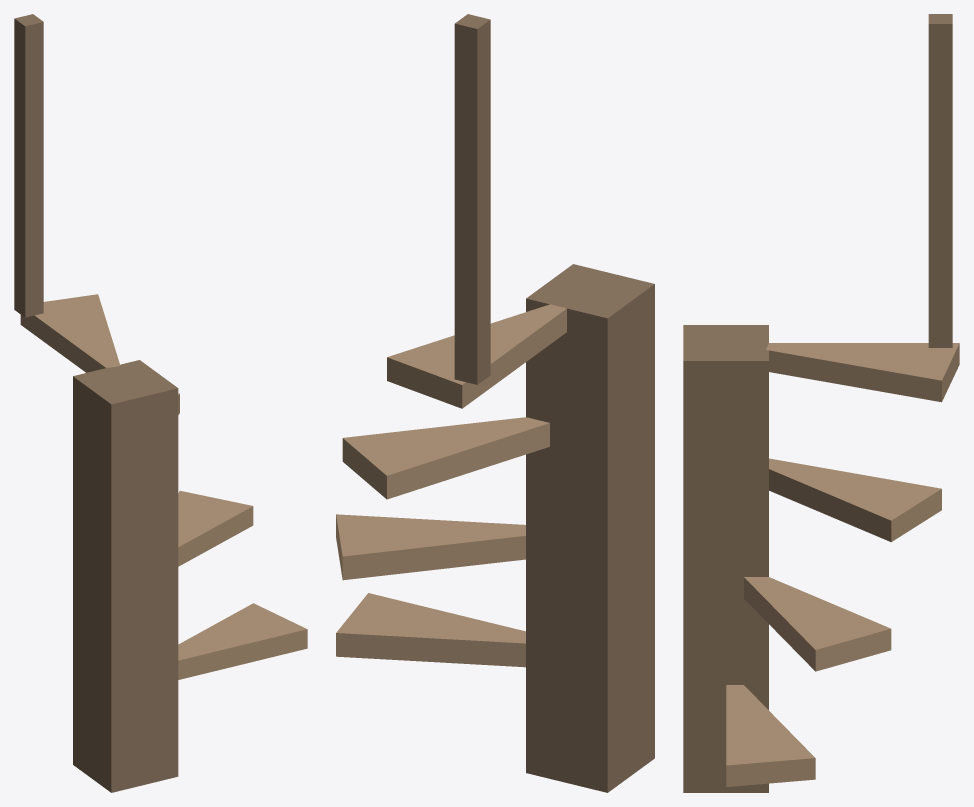
The model's file is spiral-wood.glb.
3 views of the same model, side by side, from view 1: azimuth 30°, elevation 25°; view 2: azimuth 150°, elevation 25°; view 3: azimuth 270°, elevation 25° (orthographic). The views are drawn at different scales.
Parts seen in each view (by area): view 1: spiral-wood; view 2: spiral-wood; view 3: spiral-wood.
Part boxes in pixels (x1=…): spiral-wood: x1=14, y1=14, x2=307, y2=792; spiral-wood: x1=336, y1=14, x2=654, y2=792; spiral-wood: x1=683, y1=14, x2=959, y2=792.
Size of the model in its own units: 0.58 by 1.75 by 0.58.
